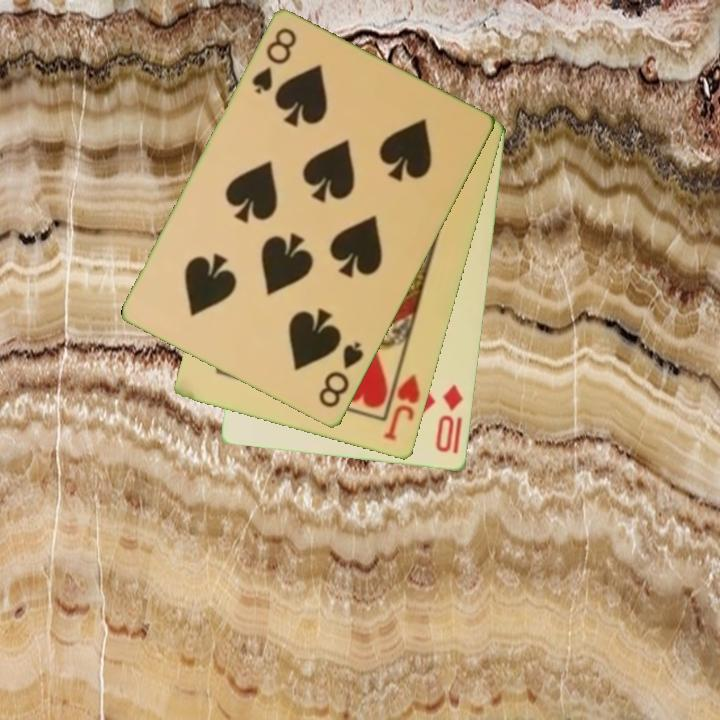10d: (432, 381, 466, 456)
8s: (315, 339, 367, 412), (248, 25, 300, 98)
Jh: (380, 361, 423, 444)
